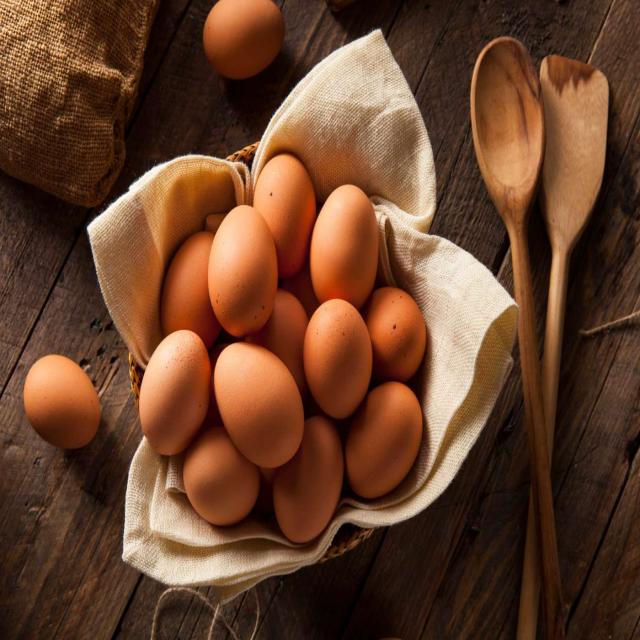Egg: (169, 230, 435, 539), (207, 339, 309, 466), (132, 327, 215, 460), (205, 203, 279, 344), (22, 343, 106, 462), (300, 298, 378, 423), (312, 180, 379, 320), (200, 0, 288, 83)
